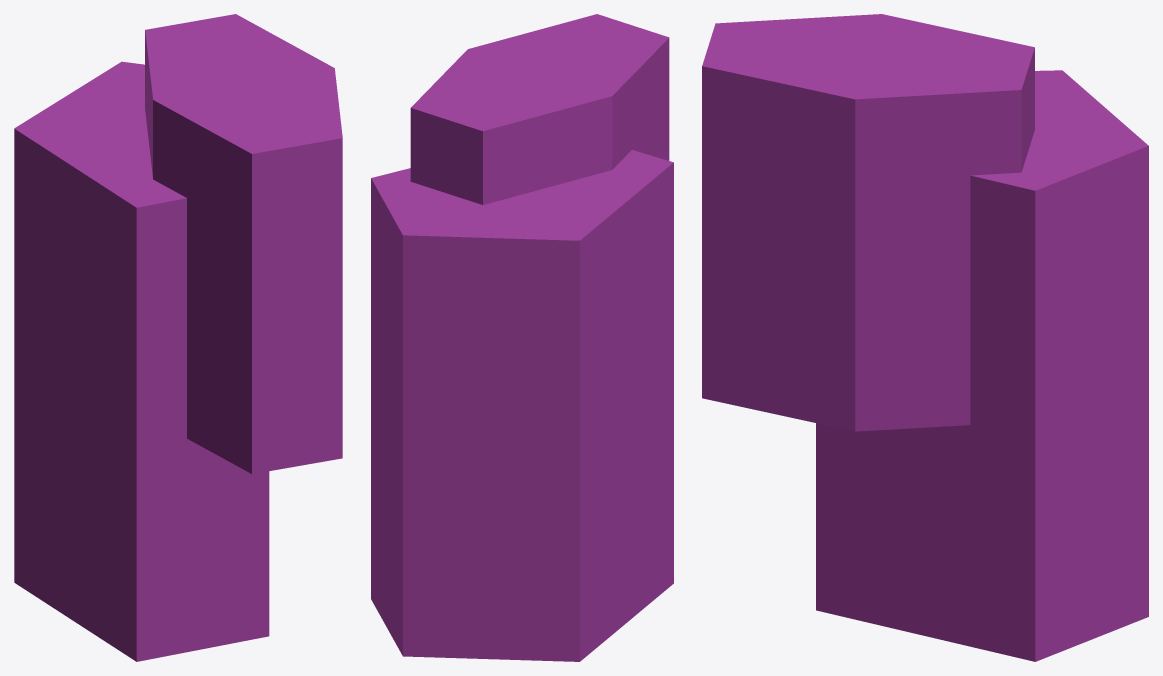
The model's file is Rock5.fbx.
3 views of the same model, side by side, from view 1: azimuth 30°, elevation 25°; view 2: azimuth 150°, elevation 25°; view 3: azimuth 270°, elevation 25° (orthographic). The views are drawn at different scales.
Parts seen in each view (by area): view 1: pCylinder100; view 2: pCylinder100; view 3: pCylinder100.
Part boxes in pixels (x1,y1,x2,y2): pCylinder100: (14,14,342,661); pCylinder100: (371,14,673,661); pCylinder100: (702,14,1148,661).
Bounding box in the file's own units: 3.95 × 8.47 × 6.19.
